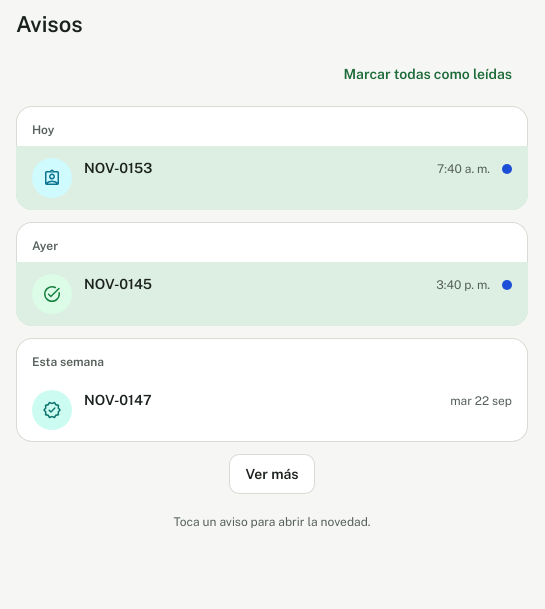
Scenario: Pantalla 10 · Avisos (RF-30 / CU-30) › RF-30: «Ver más» trae los avisos anteriores
Click the button "Ver más".
click(272, 474)  # box [229,454,315,494]
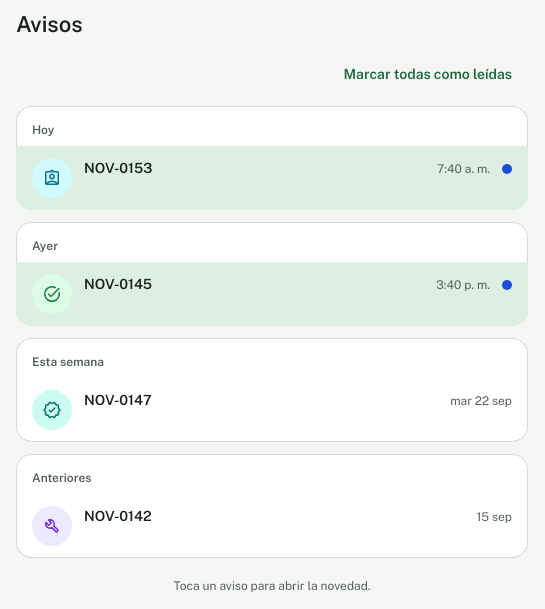
Result: the text "15 sep" is shown at [476,509,512,525]
Result: the button "Ver más" is gone
